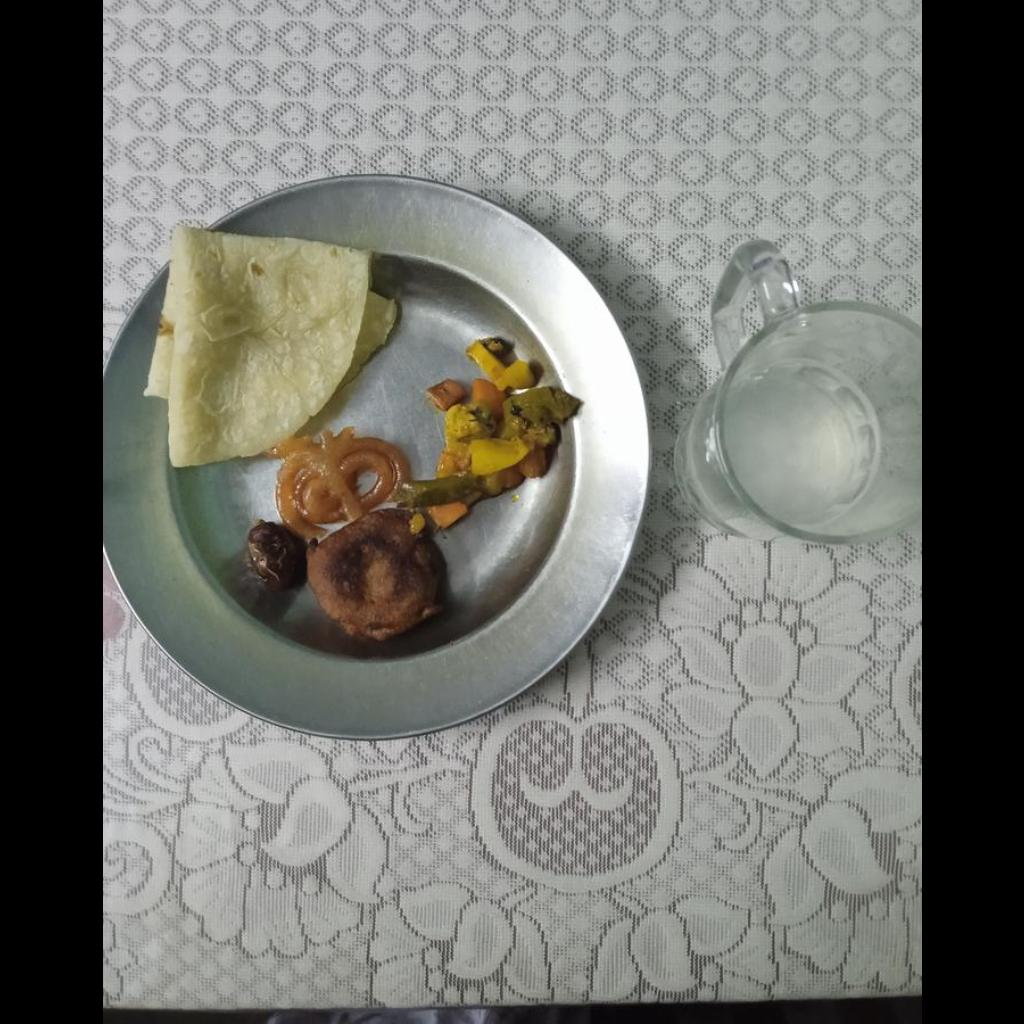chop-alu: (307, 511, 443, 641)
dates: (243, 523, 300, 581)
jilapi: (289, 433, 392, 525)
ruti: (150, 224, 403, 465)
vaji: (429, 340, 579, 516)
